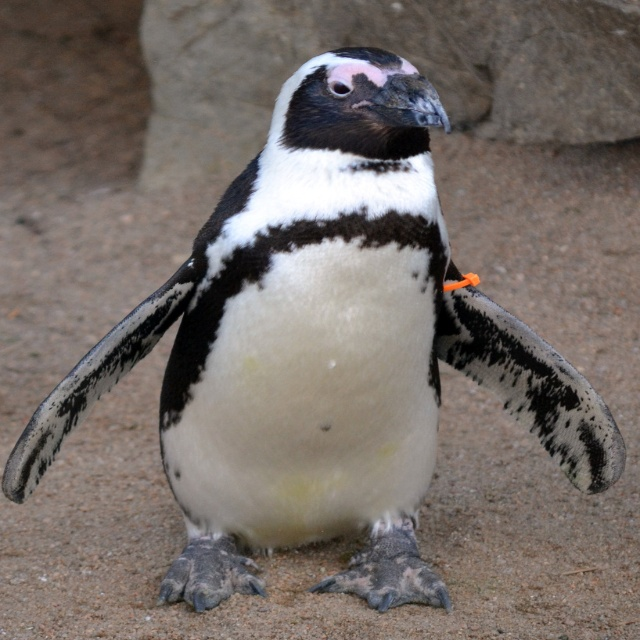Penguin: (0, 40, 640, 614)
